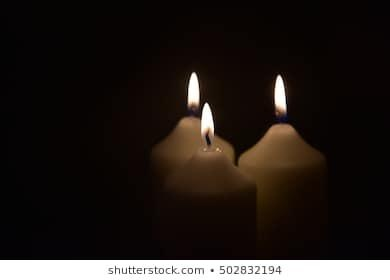fire: (270, 70, 290, 119), (196, 99, 217, 144), (184, 68, 203, 110)
